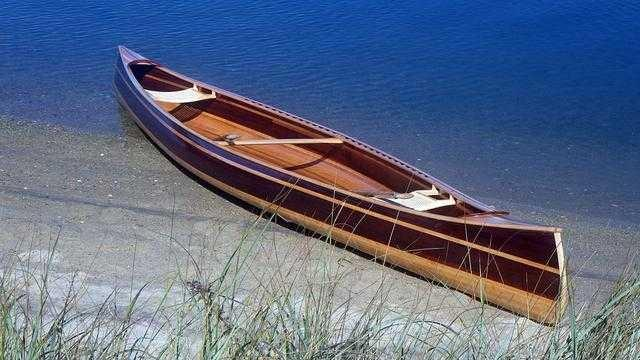kayak: (111, 47, 570, 326)
